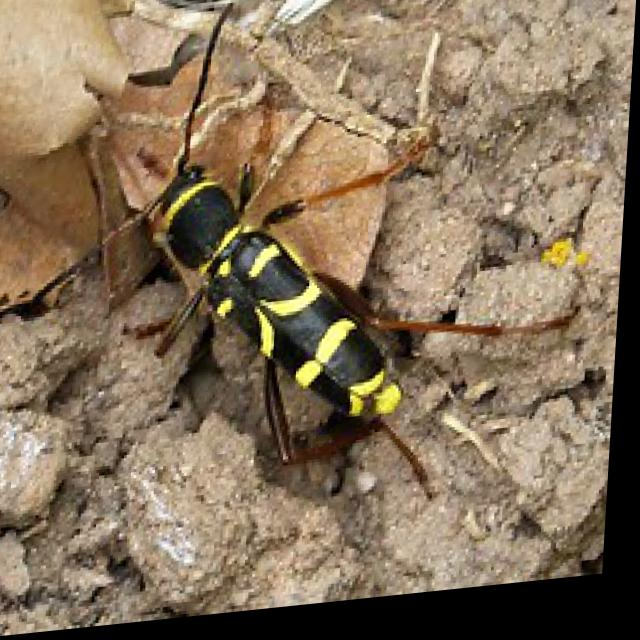Guepe: (18, 0, 543, 584)
